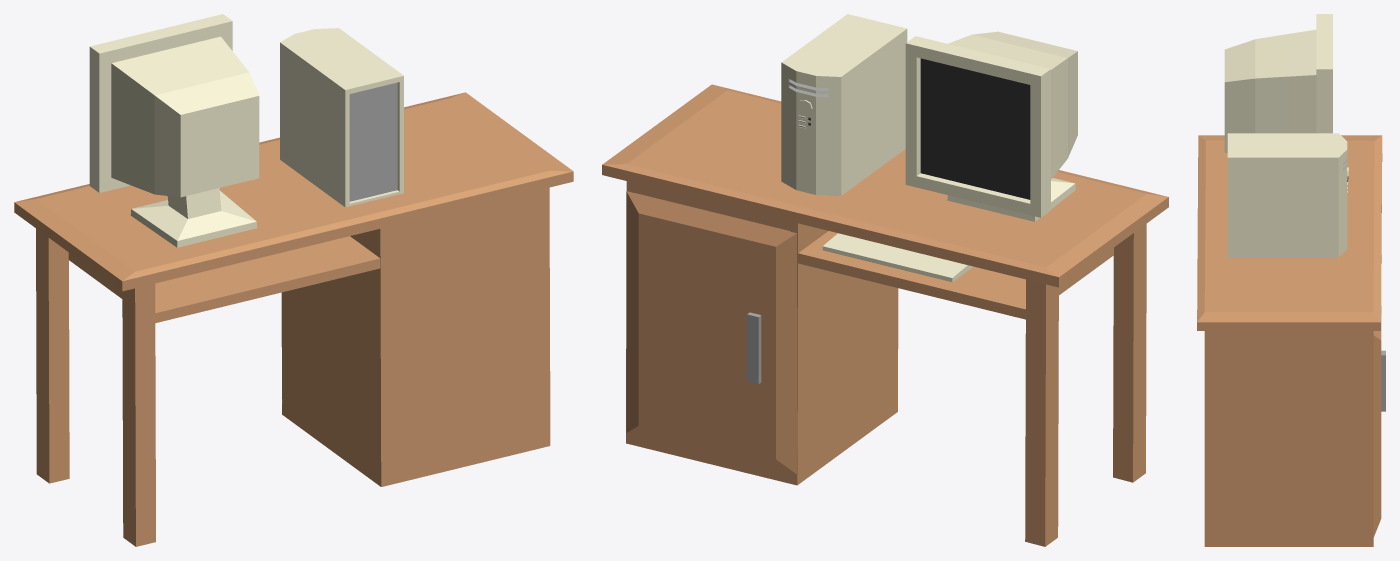
File: Desk.fbx
3 renders of one model, left to right at view 1: azimuth 30°, elevation 25°; view 2: azimuth 150°, elevation 25°; view 3: azimuth 270°, elevation 25°, orthographic. The views are drawn at different scales.
Parts seen in each view (by area): view 1: DeskMain, DeskMonitor, DeskComputer; view 2: DeskMain, DeskDoor, DeskMonitor, DeskComputer; view 3: DeskMain, DeskComputer, DeskMonitor, DeskDoor.
Part boxes in pixels (x1,y1,x2,y2): DeskMain: (14,92,573,546); DeskMonitor: (89,14,259,247); DeskComputer: (280,28,403,207); DeskMain: (602,84,1168,546); DeskDoor: (626,191,797,474); DeskMonitor: (905,31,1077,221); DeskComputer: (781,14,907,195); DeskMain: (1197,135,1382,546); DeskComputer: (1227,133,1348,257); DeskMonitor: (1224,14,1332,153); DeskDoor: (1373,315,1385,536).
Size of the model in its own units: 1.51 by 0.6417 by 1.4.
